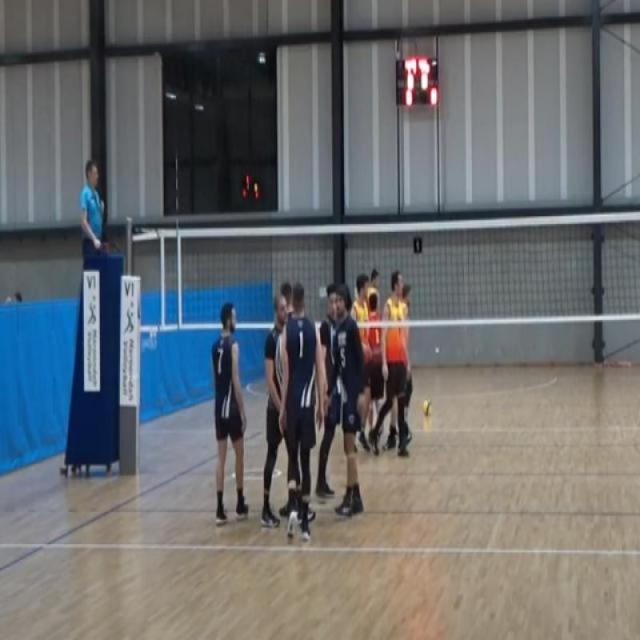volleyball: (421, 396, 434, 419)
